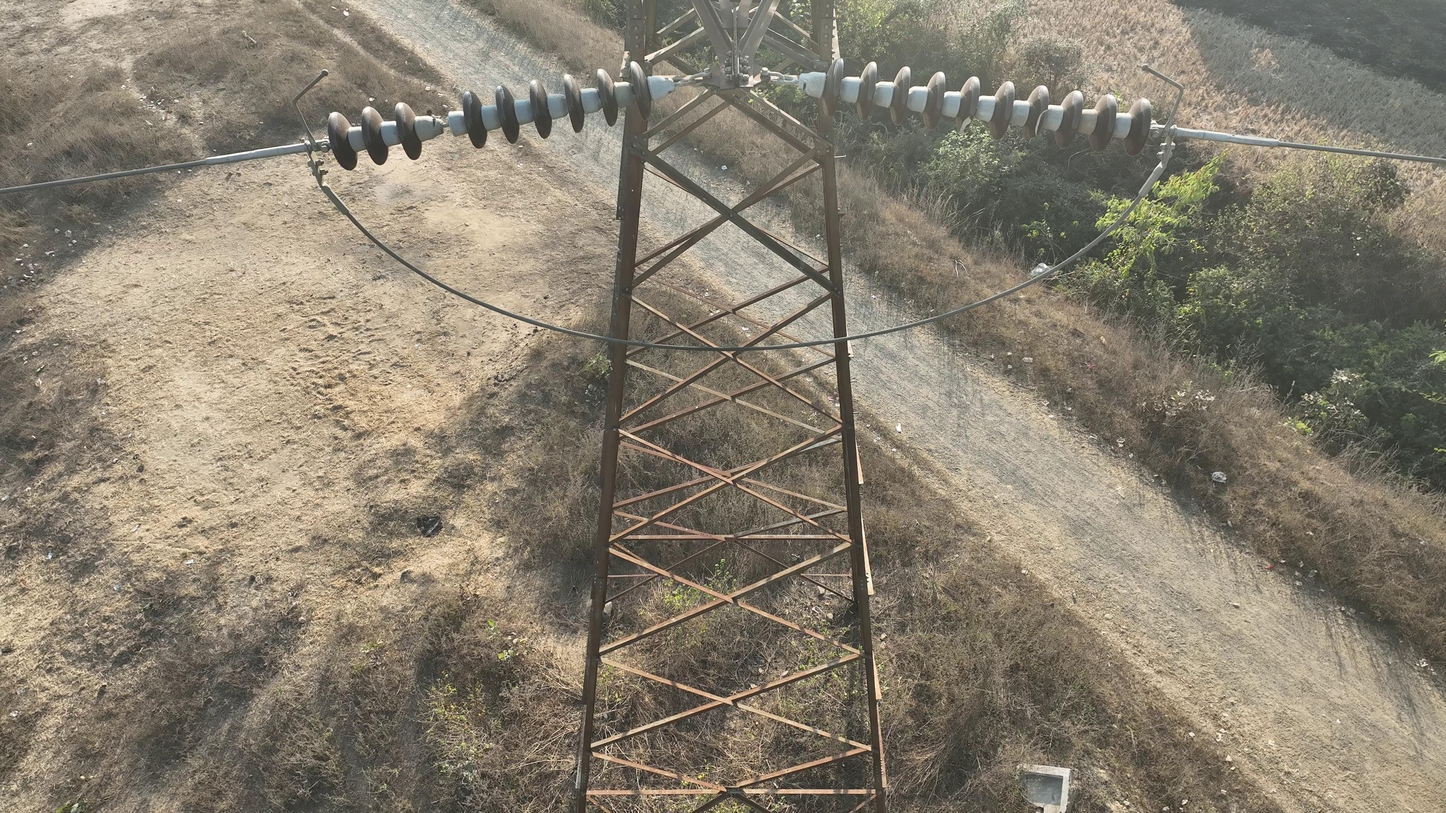broken_insulator: (1022, 76, 1055, 153), (953, 70, 985, 144)
